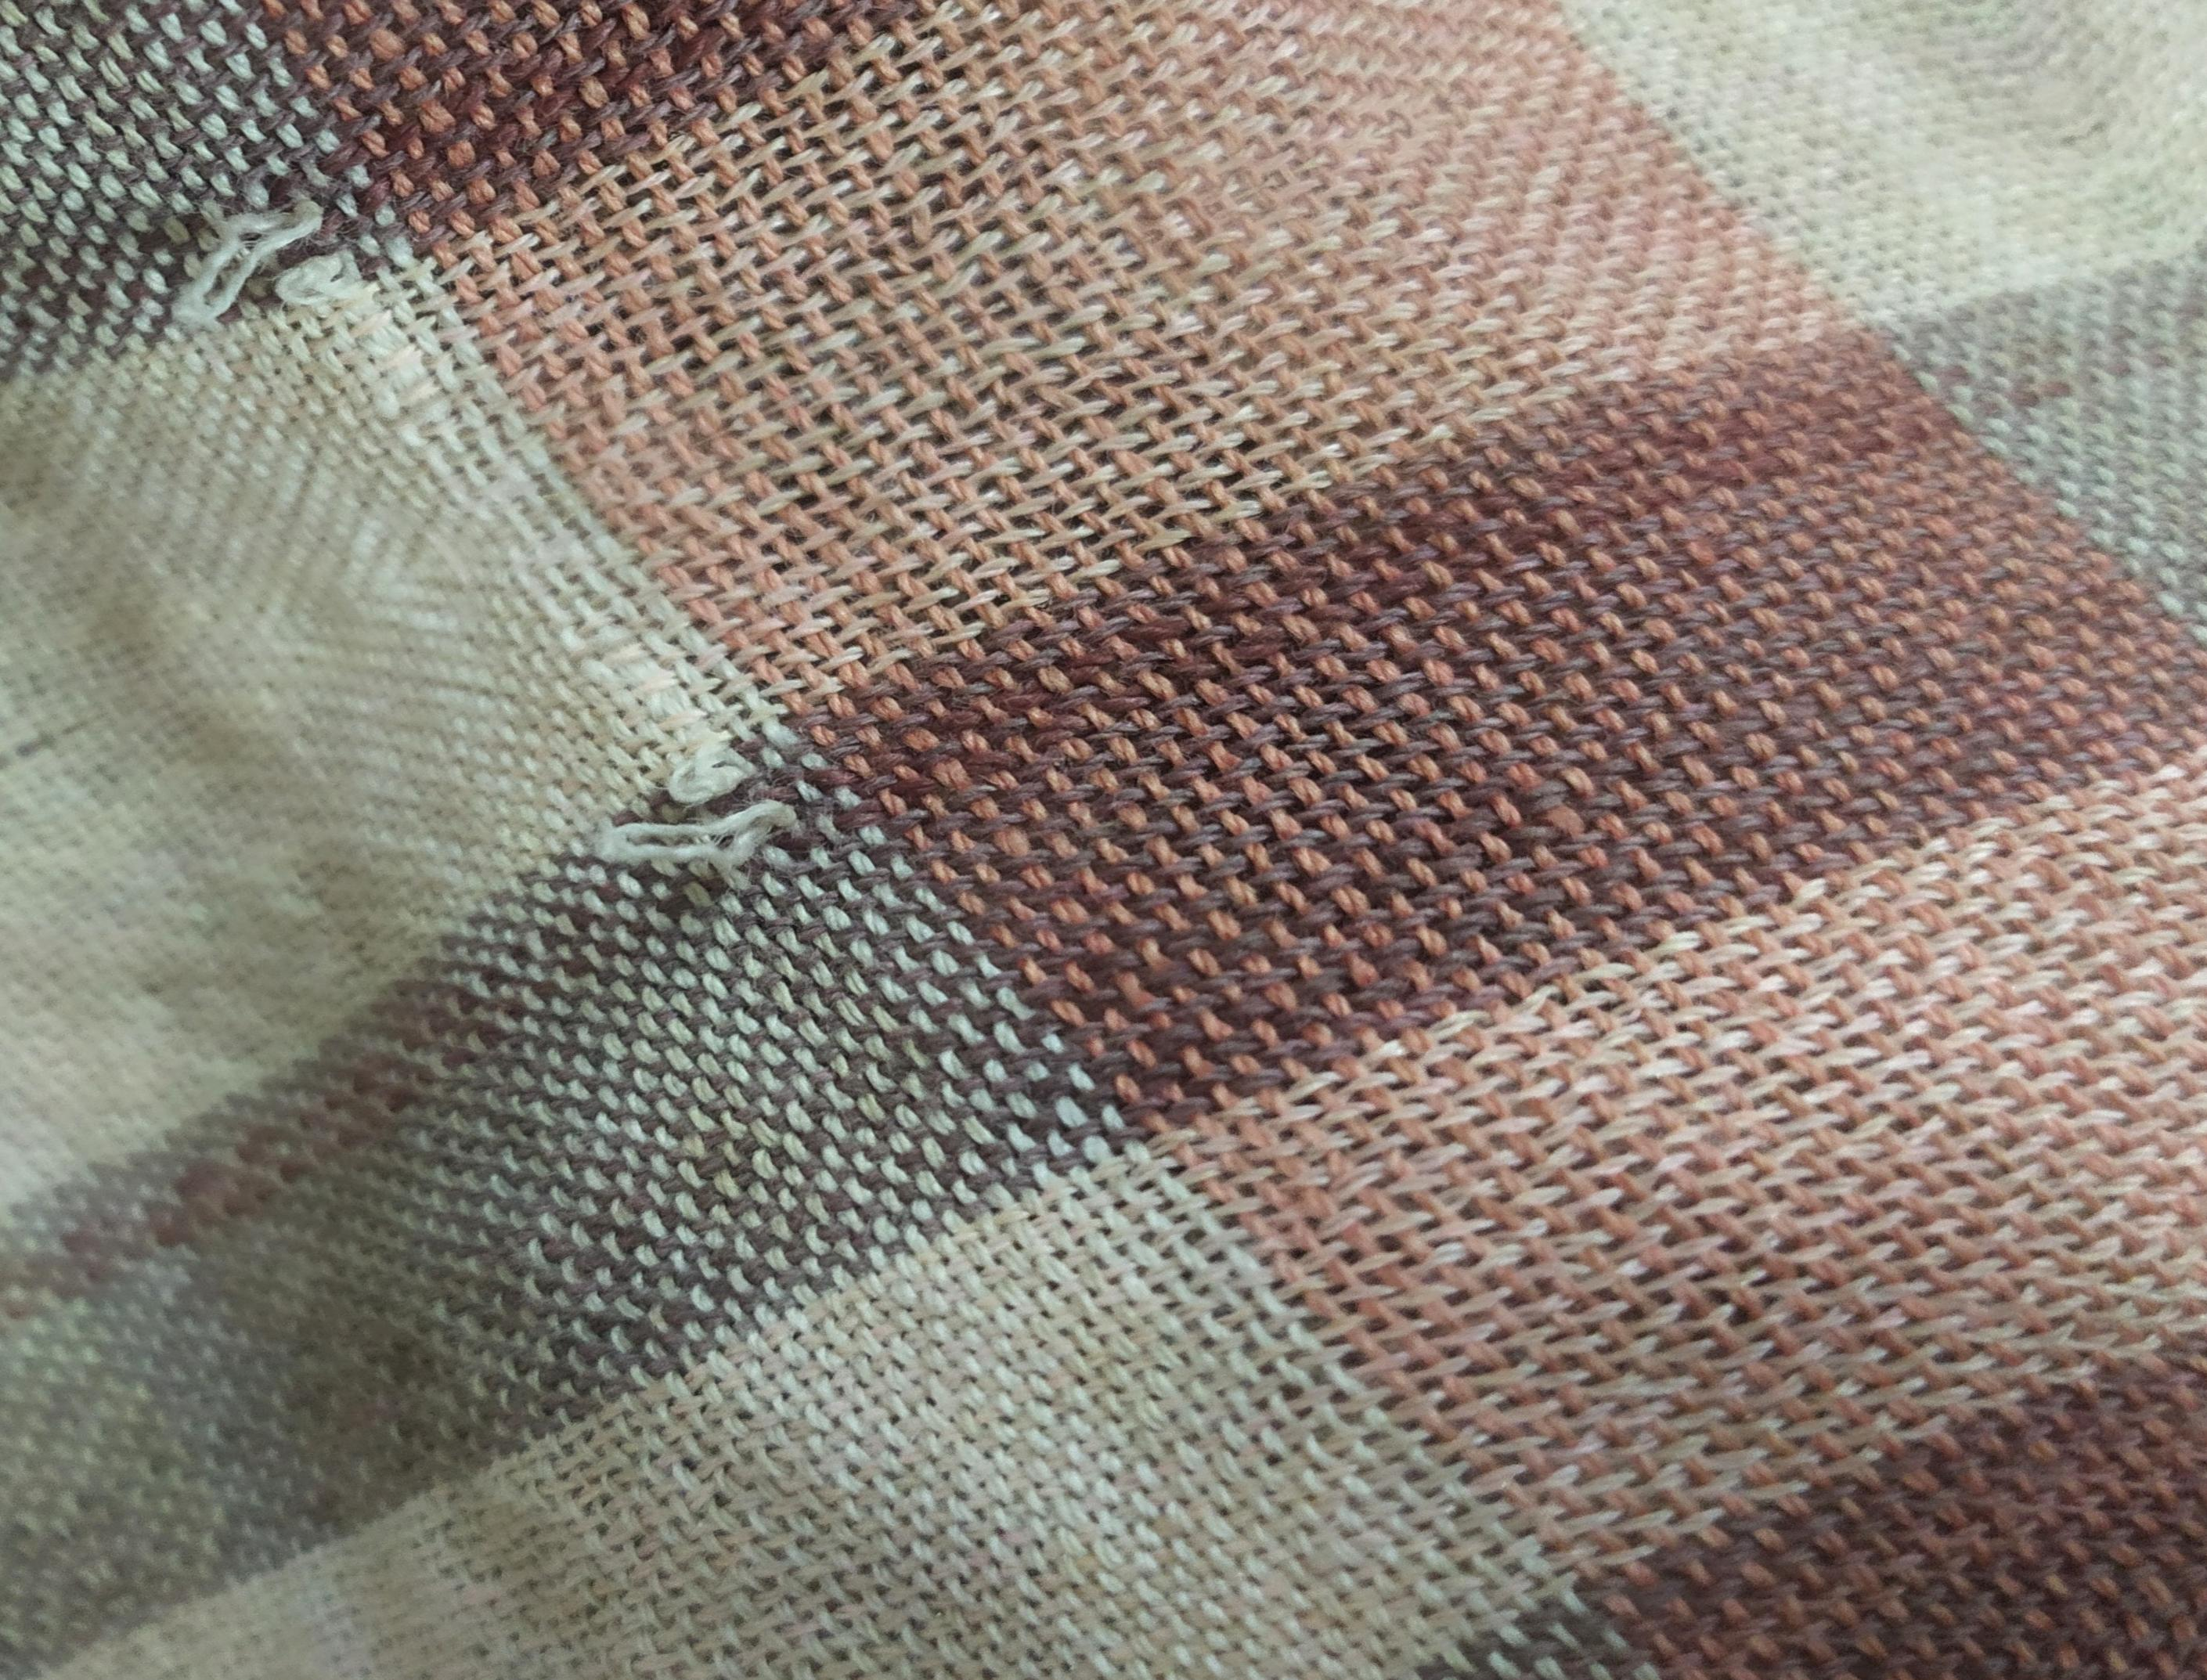snag: (575, 722, 831, 904), (175, 171, 386, 353)
